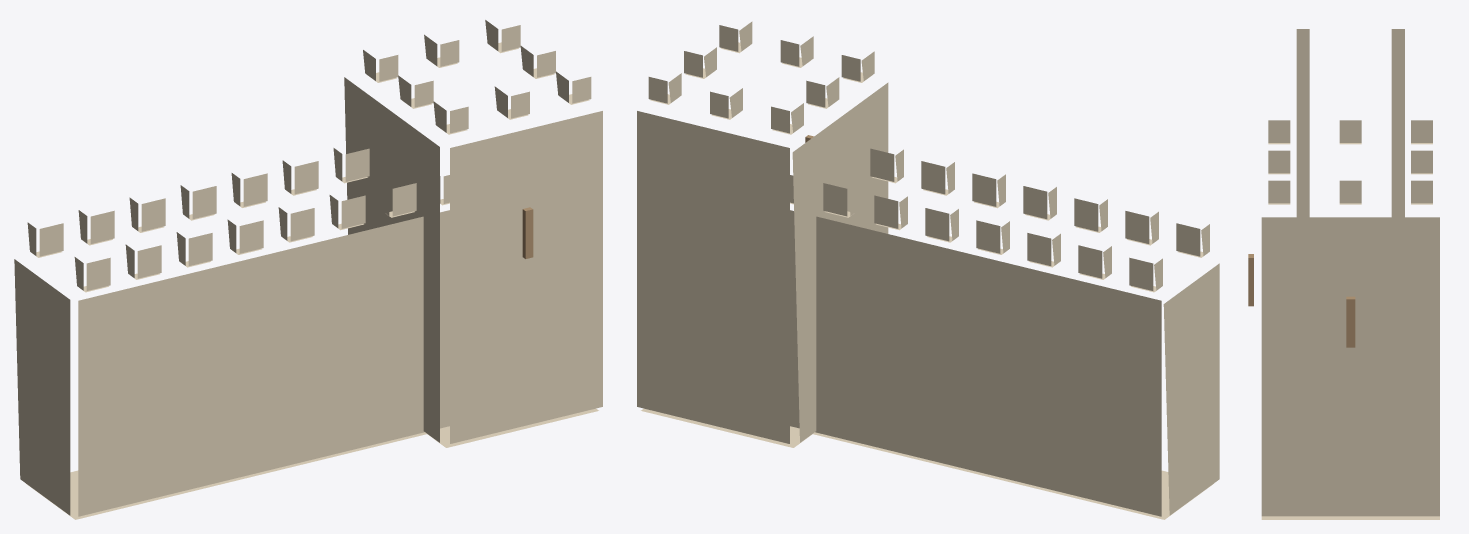
File: citadel_rampart_modular.glb
3 views of the same model, side by side, from view 1: azimuth 30°, elevation 25°; view 2: azimuth 150°, elevation 25°; view 3: azimuth 270°, elevation 25° (orthographic).
Bounding box in the file's own units: 20.45 × 12.6 × 6.95.
